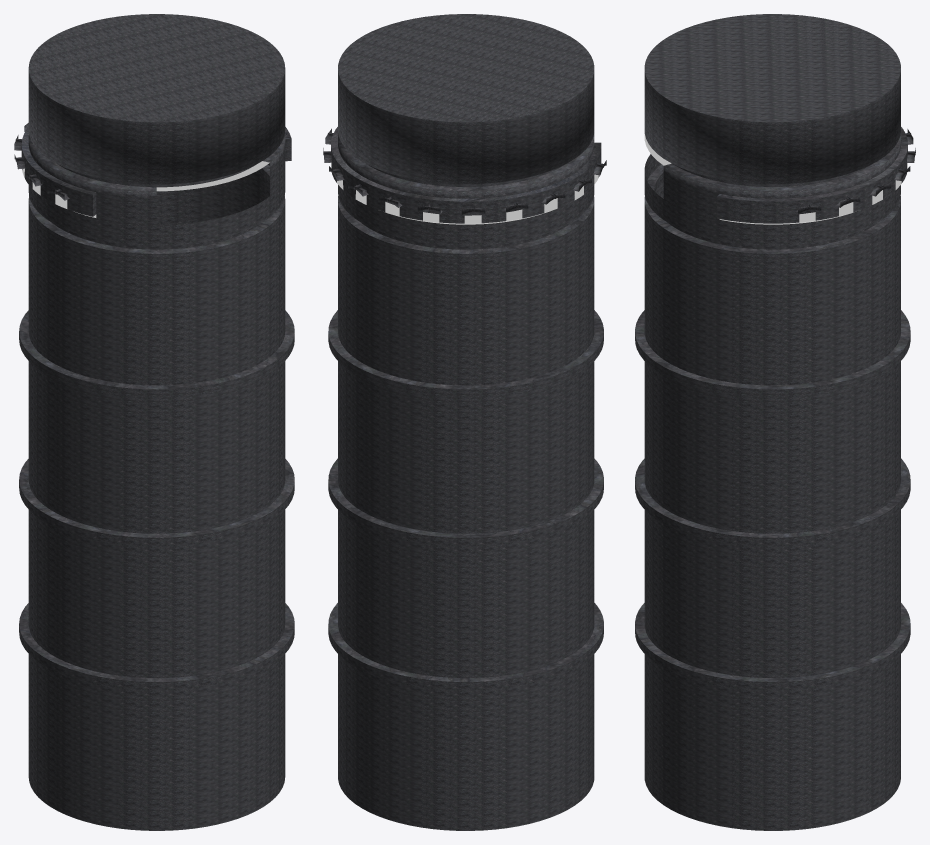
File: Room2.fbx
3 views of the same model, side by side, from view 1: azimuth 30°, elevation 25°; view 2: azimuth 150°, elevation 25°; view 3: azimuth 270°, elevation 25° (orthographic).
Parts seen in each view (by area): view 1: Room2; view 2: Room2; view 3: Room2.
Boxes of the visible parts, x1,y1,x2,y2 form: Room2: [14, 14, 294, 830]; Room2: [323, 14, 606, 830]; Room2: [635, 14, 915, 830].
Bounding box in the file's own units: 5400 × 14903 × 5355.
